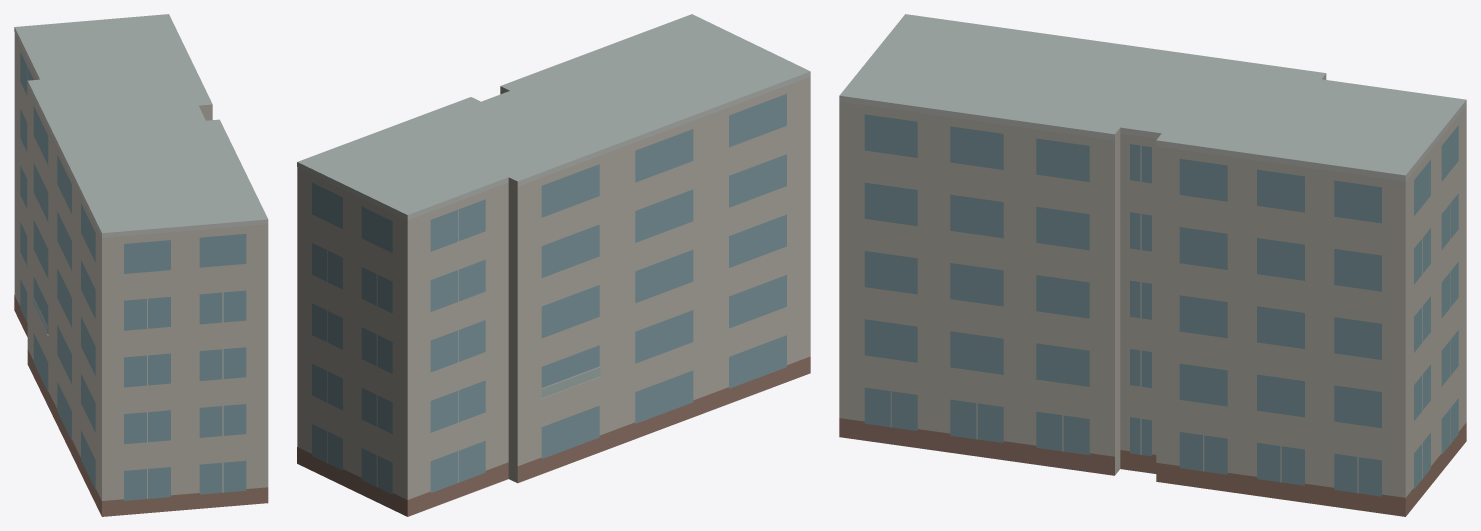
The model's file is survey-upis-32581065.glb.
3 renders of one model, left to right at view 1: azimuth 30°, elevation 25°; view 2: azimuth 150°, elevation 25°; view 3: azimuth 270°, elevation 25°, orthographic. The views are drawn at different scales.
Parts seen in each view (by area): view 1: survey-upis-32581065.tmp; view 2: survey-upis-32581065.tmp; view 3: survey-upis-32581065.tmp.
Boxes of the visible parts, bbox=[...] form: survey-upis-32581065.tmp: bbox=[14, 14, 268, 516]; survey-upis-32581065.tmp: bbox=[297, 14, 810, 516]; survey-upis-32581065.tmp: bbox=[839, 14, 1466, 516].
Size of the model in its own units: 14.31 by 14.1 by 23.49.
